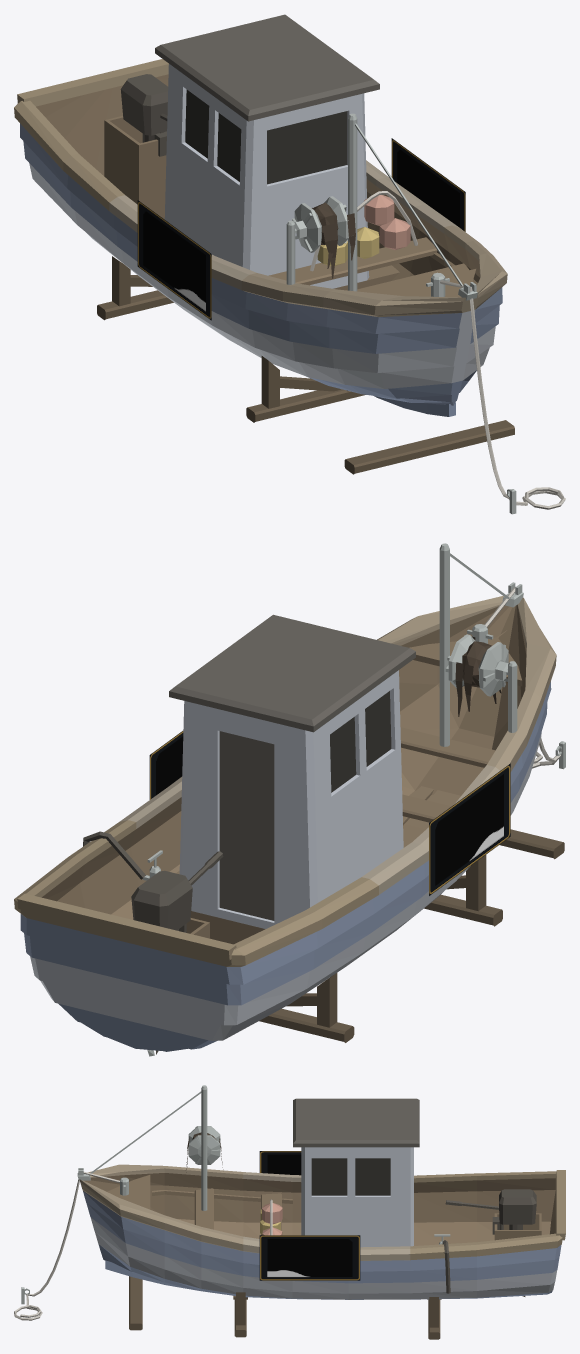
File: Fishing_Boat.glb
3 views of the same model, one above another, from view 1: azimuth 30°, elevation 25°; view 2: azimuth 150°, elevation 25°; view 3: azimuth 270°, elevation 25° (orthographic). The views are drawn at different scales.
Visible parts, largest first — view 1: boat-body, TYRANZ_Logo_-1, buoys-mesh, TYRANZ_Logo_1, outboard-mesh, hauler-mesh, hauler-weed-mesh; view 2: boat-body, TYRANZ_Logo_-1, outboard-mesh, hauler-mesh, TYRANZ_Logo_1, hauler-weed-mesh; view 3: boat-body, TYRANZ_Logo_1, outboard-mesh, TYRANZ_Logo_-1, hauler-mesh, buoys-mesh.
Part boxes in pixels (x1,y1,x2,y2): boat-body: (14,14,565,514); TYRANZ_Logo_-1: (137,200,211,320); buoys-mesh: (310,191,417,271); TYRANZ_Logo_1: (391,138,465,231); outboard-mesh: (120,74,168,142); hauler-mesh: (292,196,348,252); hauler-weed-mesh: (314,207,355,278); boat-body: (14,543,565,1051); TYRANZ_Logo_-1: (429,763,510,895); outboard-mesh: (131,851,223,1054); hauler-mesh: (445,634,508,696); TYRANZ_Logo_1: (149,731,183,799); hauler-weed-mesh: (455,636,501,716); boat-body: (14,1085,565,1339); TYRANZ_Logo_1: (259,1235,360,1280); outboard-mesh: (445,1189,536,1296); TYRANZ_Logo_-1: (259,1151,301,1175); hauler-mesh: (188,1126,220,1164); buoys-mesh: (260,1199,282,1235).
Bounding box in the file's own units: 2.47 × 2.85 × 6.84.
2 materials, 1 textured.
